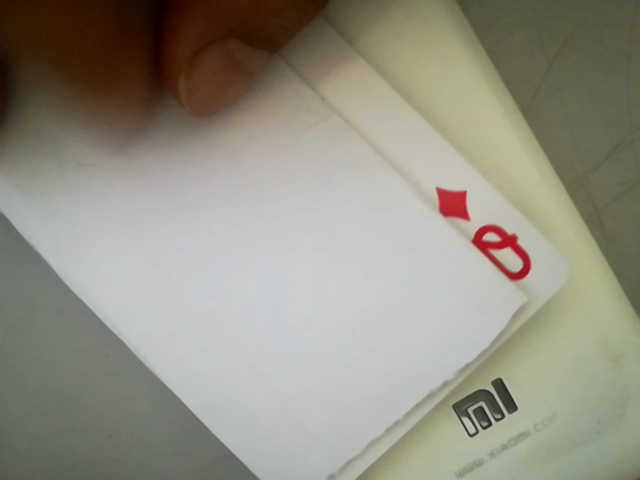fk q: (425, 179, 551, 287)
